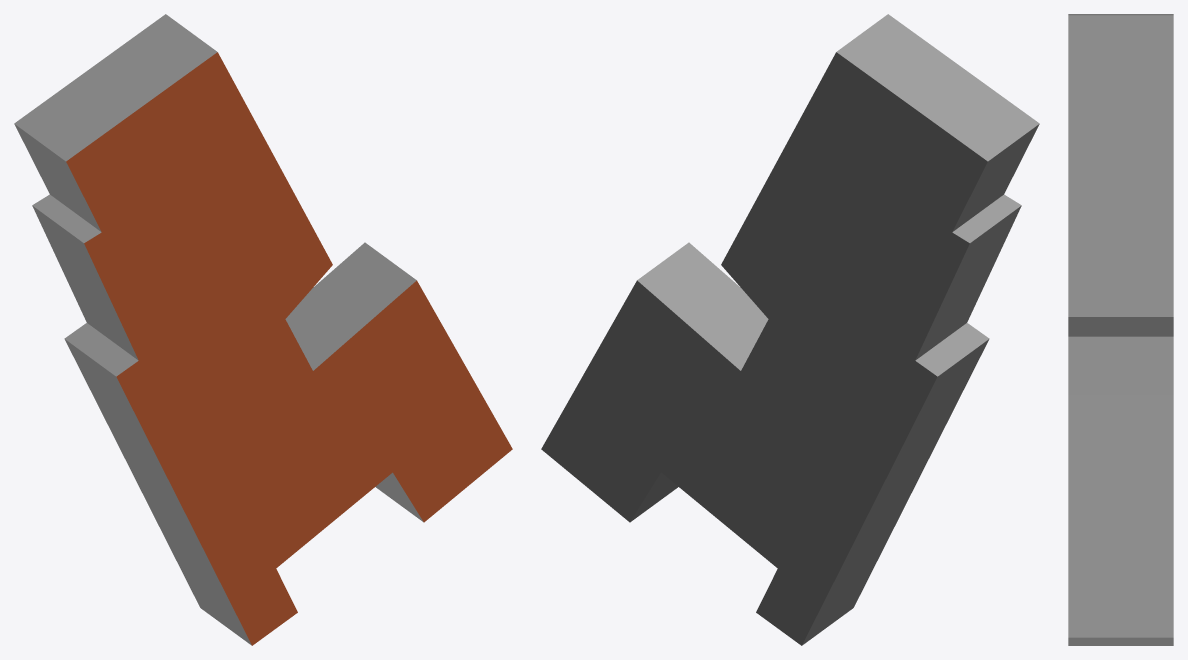
File: construction_3333_assumed_A_Casa_h6m.obj
The picture shows the model from 3 angles, left to right: view 1: azimuth 30°, elevation 25°; view 2: azimuth 150°, elevation 25°; view 3: azimuth 270°, elevation 25°; orthographic projection.
Visible parts, largest first — view 1: construction_3333_assumed_A_Casa; view 2: construction_3333_assumed_A_Casa; view 3: construction_3333_assumed_A_Casa.
Part boxes in pixels (x1=…): construction_3333_assumed_A_Casa: x1=14, y1=14, x2=512, y2=645; construction_3333_assumed_A_Casa: x1=541, y1=14, x2=1039, y2=645; construction_3333_assumed_A_Casa: x1=1068, y1=14, x2=1173, y2=645.
Bounding box in the file's own units: 29.81 × 38.41 × 6.
